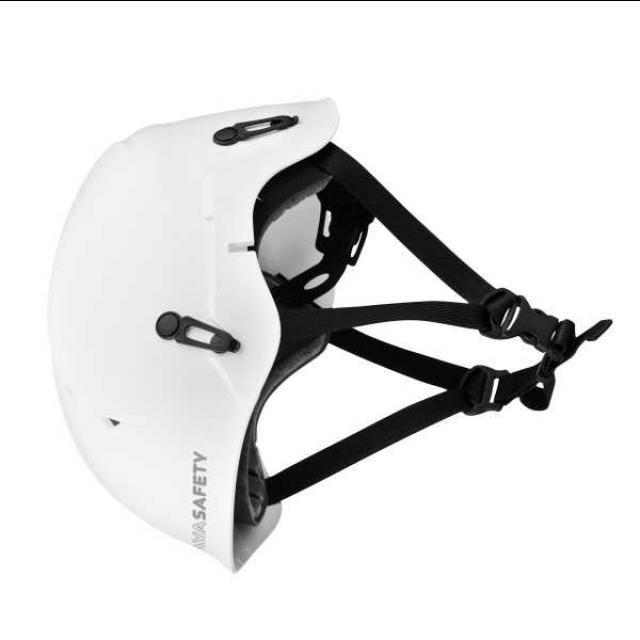safety_helmet: (47, 94, 609, 575)
